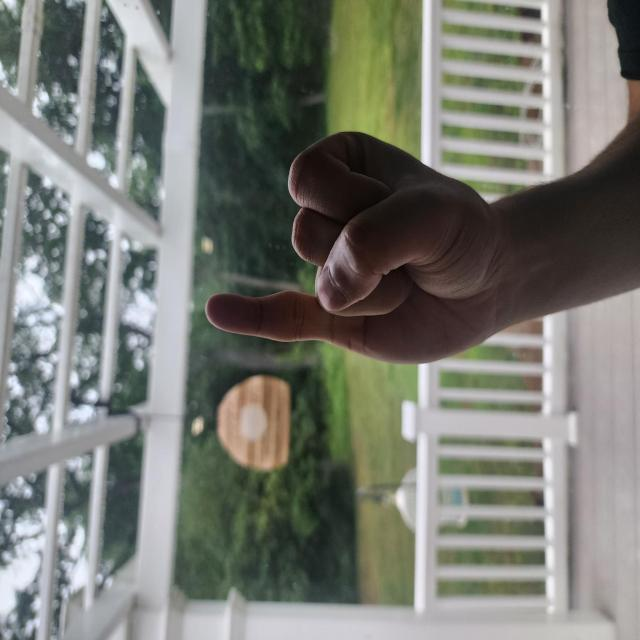I: (103, 205, 442, 640)
